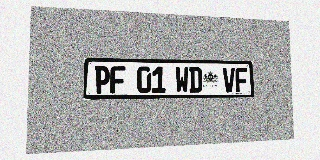0: (137, 66, 151, 93)
1: (152, 67, 166, 93)
D: (189, 67, 202, 93)
F: (110, 66, 125, 93), (235, 68, 248, 92)
P: (94, 66, 110, 94)
V: (223, 67, 235, 92)
W: (175, 67, 189, 93)
